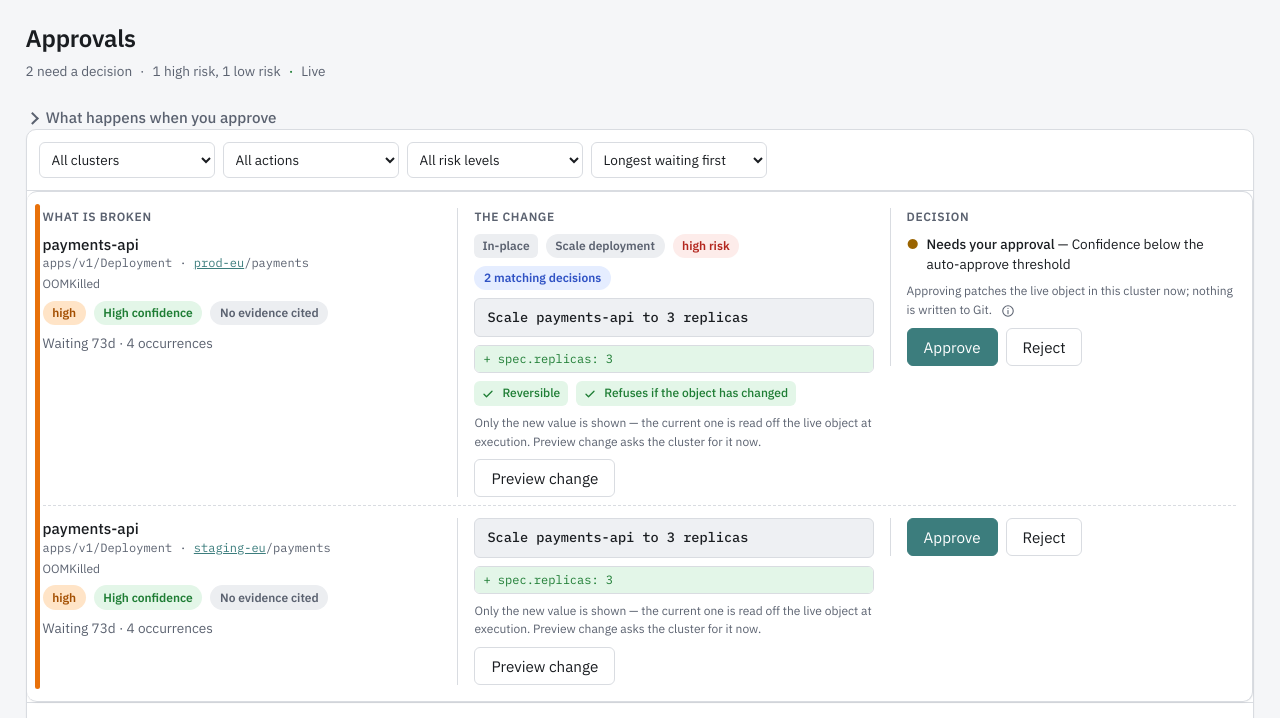
Test: ApprovalsPage — page structure (PROJECT.md D16, B167) › distinguishes "filtered to nothing" from "nothing is waiting"
Expected: the text "2 need a decision" is shown, 26,61 -> 132,82
Select "Medium risk" in the 3rd dropdown named "Filter by risk" at [495, 160], box 407,142 -> 583,178
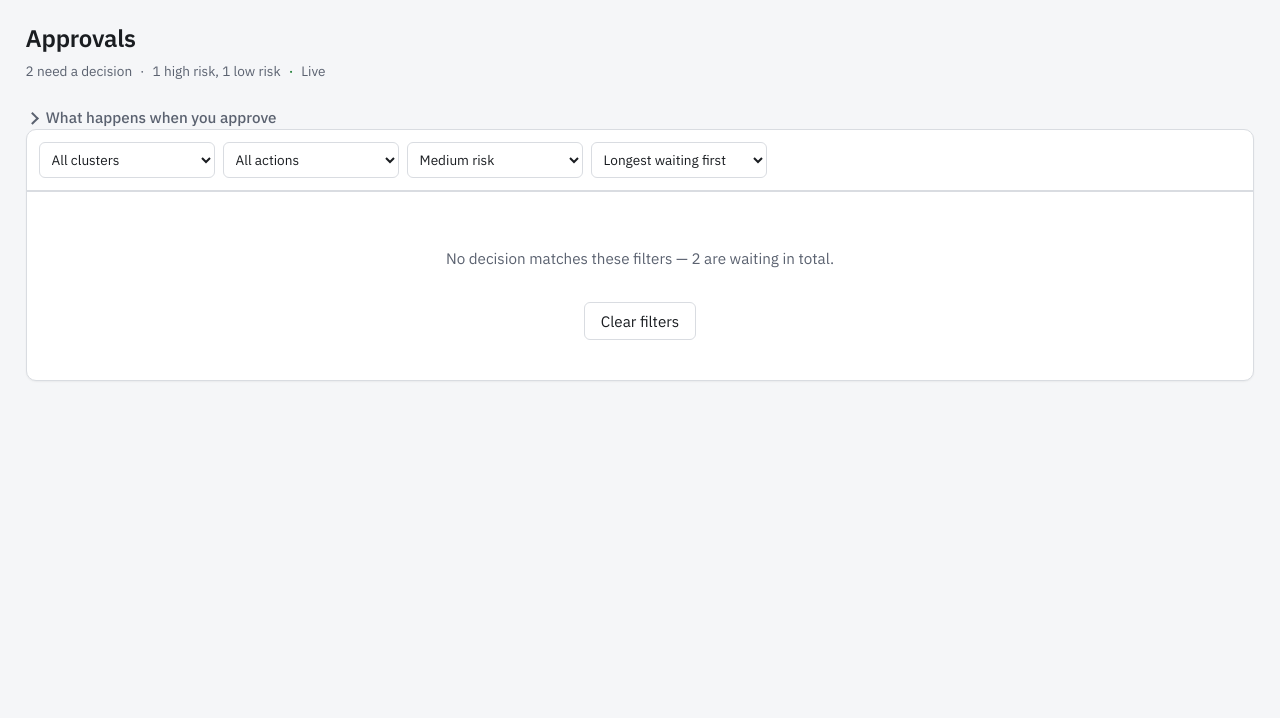
Now the text "No decision matches these filters — 2 are waiting in total." is shown, box 446,247 -> 834,270
